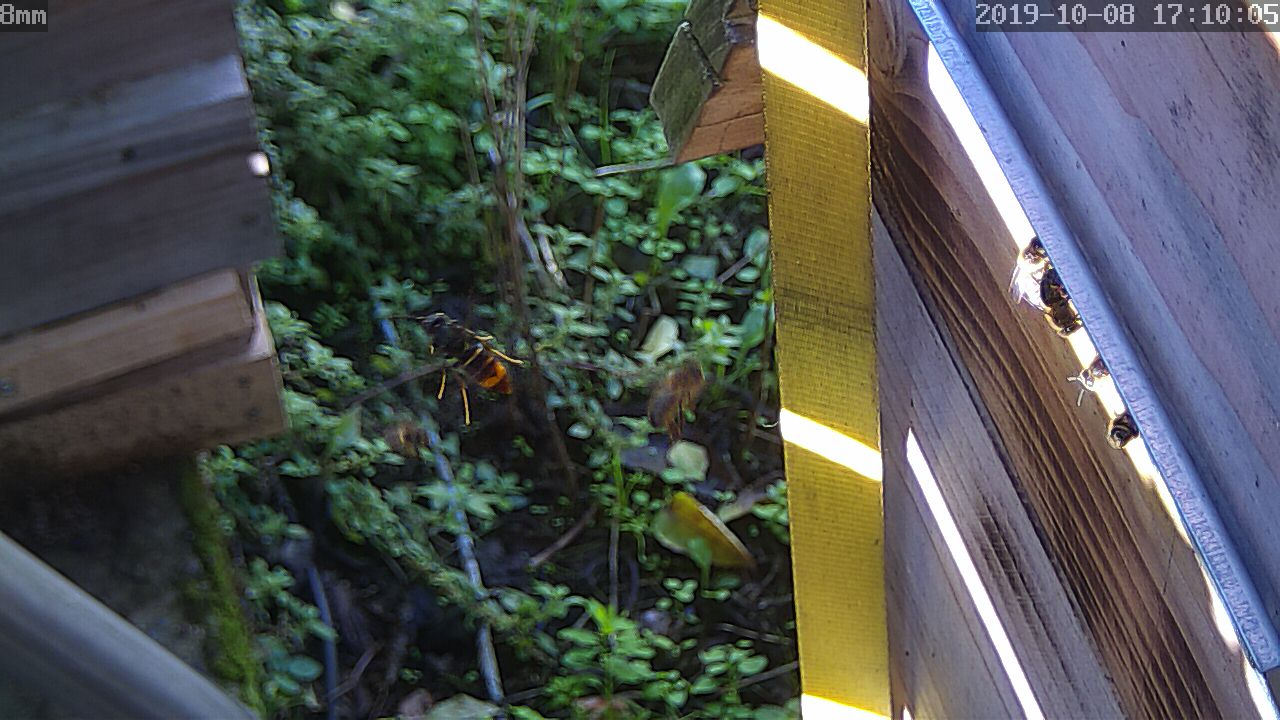bee: (1014, 243, 1084, 347), (1072, 352, 1122, 401), (1090, 405, 1142, 451)
hornet: (413, 308, 523, 406)
